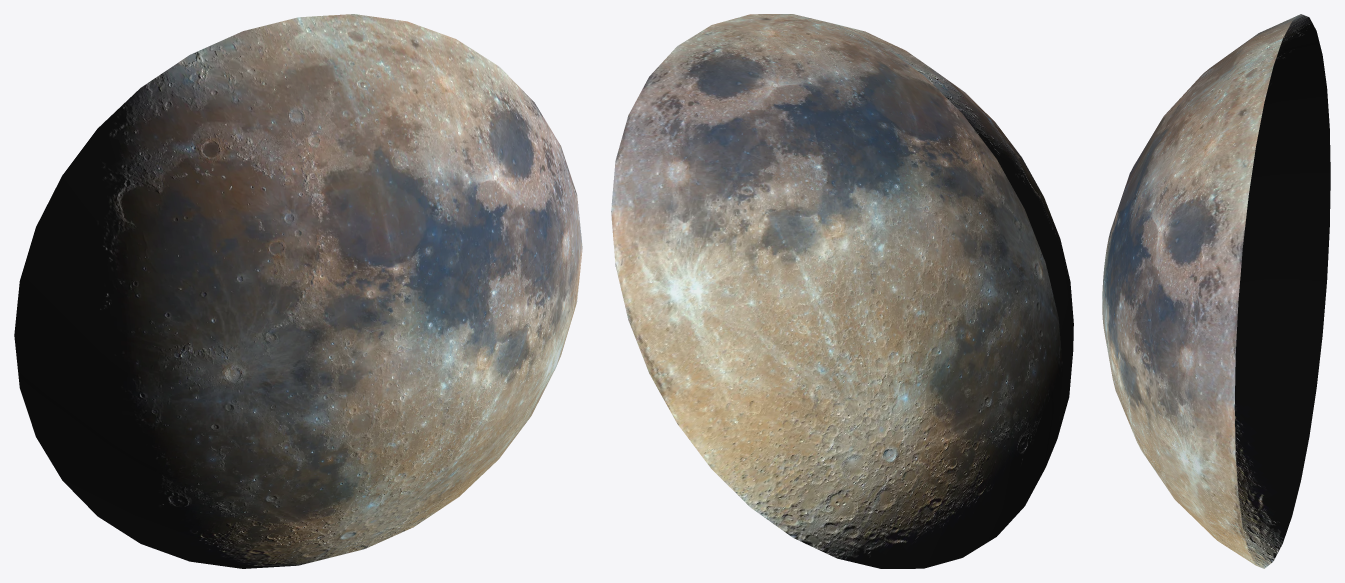
The model's file is MOON.glb.
3 renders of one model, left to right at view 1: azimuth 30°, elevation 25°; view 2: azimuth 150°, elevation 25°; view 3: azimuth 270°, elevation 25°, orthographic. The views are drawn at different scales.
Parts seen in each view (by area): view 1: MOON; view 2: MOON; view 3: MOON.
Boxes of the visible parts, x1,y1,x2,y2 form: MOON: [14, 14, 582, 568]; MOON: [611, 14, 1073, 568]; MOON: [1102, 14, 1330, 568].
Size of the model in its own units: 70.49 by 71.56 by 29.37.
Materials: 1 (1 with a texture image).
